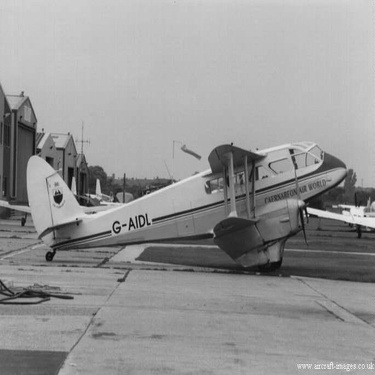airplane: (7, 132, 353, 267), (1, 170, 96, 229), (292, 183, 371, 242), (81, 174, 124, 214)
